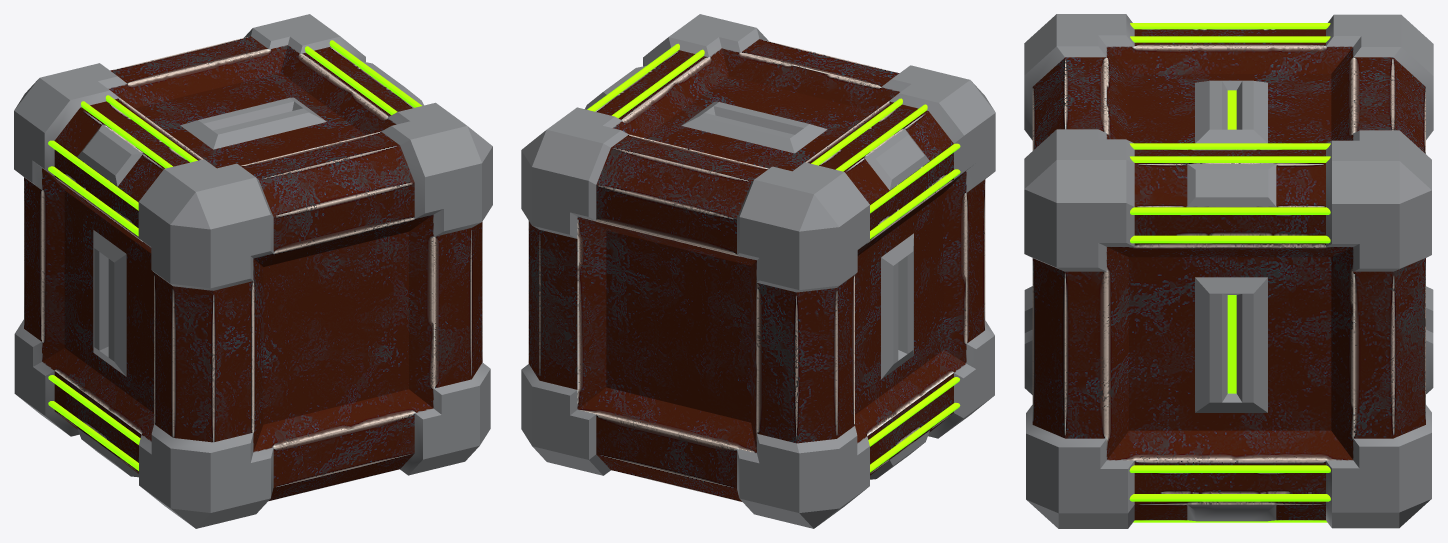
Rendered from Scifi_Box.fbx.
3 views of the same model, side by side, from view 1: azimuth 30°, elevation 25°; view 2: azimuth 150°, elevation 25°; view 3: azimuth 270°, elevation 25° (orthographic). The views are drawn at different scales.
Parts seen in each view (by area): view 1: Scifi_Box; view 2: Scifi_Box; view 3: Scifi_Box.
Boxes of the visible parts, x1,y1,x2,y2 form: Scifi_Box: (14,14,492,528); Scifi_Box: (521,14,995,528); Scifi_Box: (1024,14,1433,528).
Size of the model in its own units: 185 by 185 by 185.
1 material, 1 textured.
